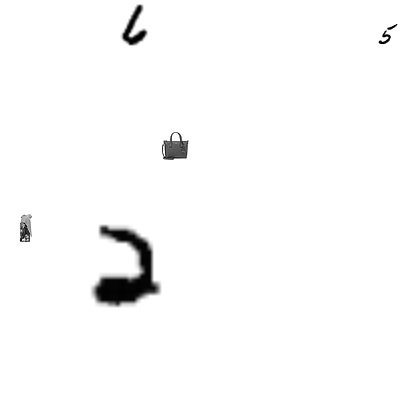2: (68, 214, 180, 326)
5: (373, 21, 401, 49)
6: (105, 1, 161, 57)
Bag: (161, 132, 189, 160)
Dress: (11, 214, 39, 242)
